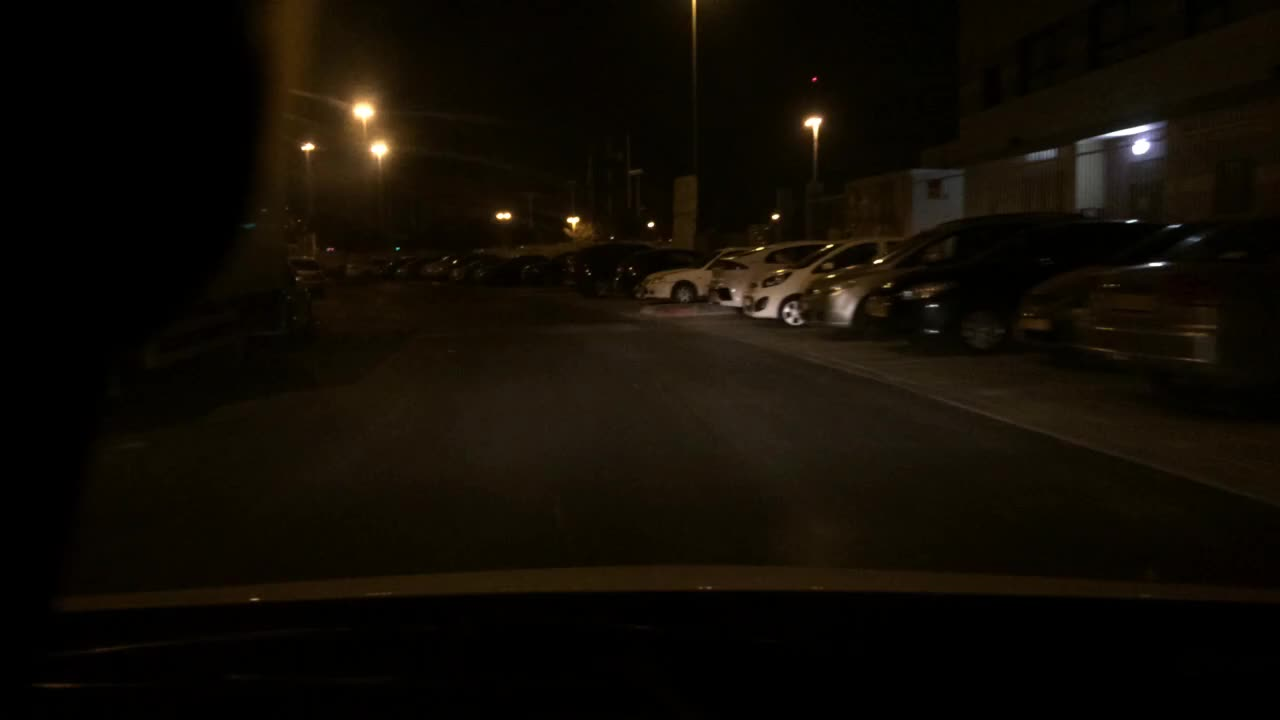car: (1070, 221, 1278, 415), (850, 213, 1138, 352), (105, 243, 314, 380), (1009, 218, 1198, 364), (794, 215, 974, 335), (739, 234, 908, 329), (707, 238, 835, 308), (631, 243, 751, 304), (573, 240, 655, 299), (501, 251, 556, 287), (418, 250, 481, 279), (290, 254, 329, 297), (343, 255, 388, 281), (653, 246, 708, 267), (465, 256, 511, 281), (386, 253, 427, 281), (552, 248, 576, 285)
traffic sign: (670, 174, 698, 239)
